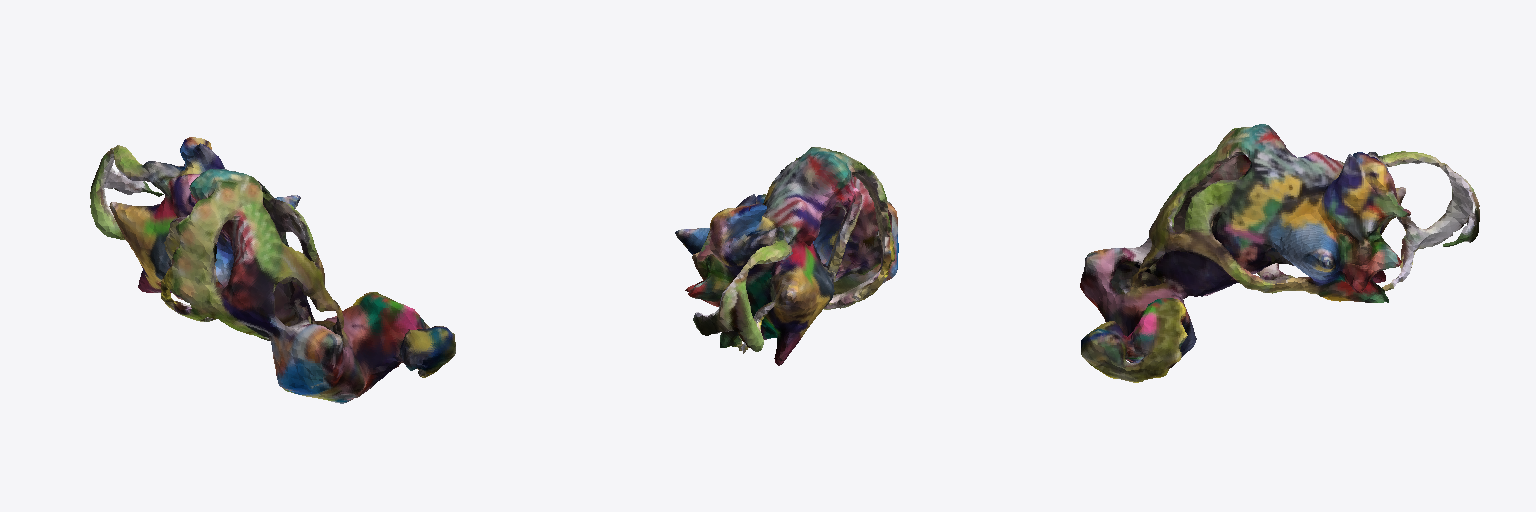
3 renders of one model, left to right at view 1: azimuth 30°, elevation 25°; view 2: azimuth 150°, elevation 25°; view 3: azimuth 270°, elevation 25°, orthographic.
Bounding box in the file's own units: 383 × 355 × 607.
1 materials, 1 textured.